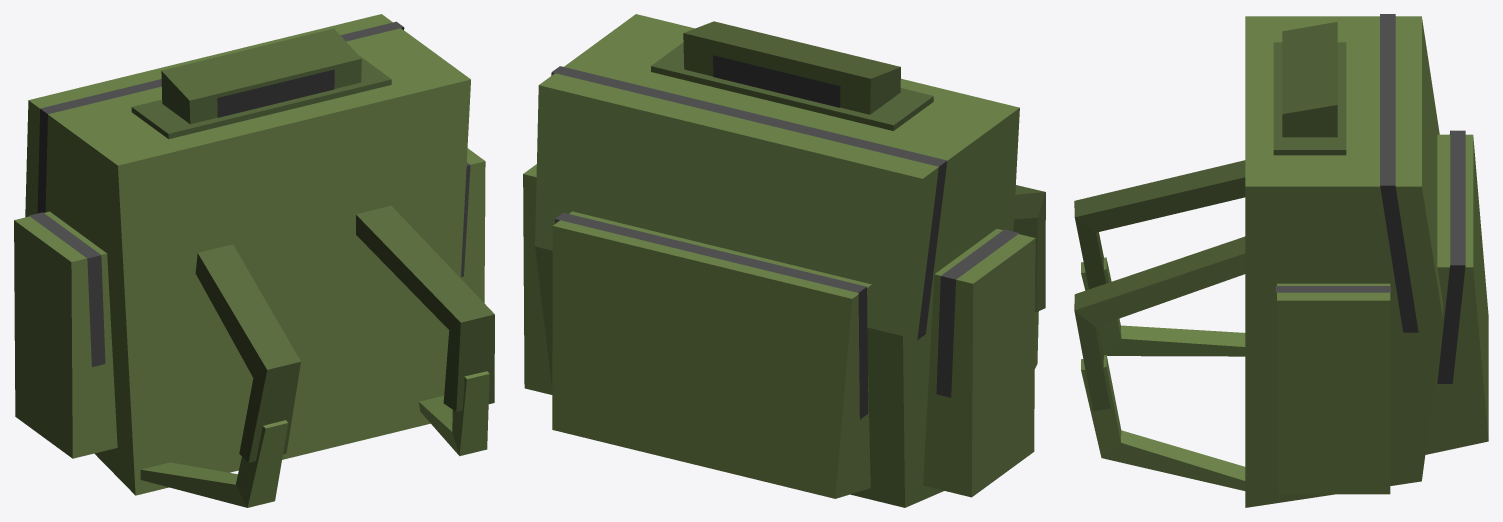
File: Item_Backpack004.FBX
The picture shows the model from 3 angles, left to right: view 1: azimuth 30°, elevation 25°; view 2: azimuth 150°, elevation 25°; view 3: azimuth 270°, elevation 25°; orthographic projection. The views are drawn at different scales.
Parts seen in each view (by area): view 1: Item_Backpack004; view 2: Item_Backpack004; view 3: Item_Backpack004.
Part boxes in pixels (x1=…): Item_Backpack004: x1=14, y1=14, x2=494, y2=507; Item_Backpack004: x1=523, y1=14, x2=1045, y2=507; Item_Backpack004: x1=1074, y1=14, x2=1488, y2=507.
Bounding box in the file's own units: 48.36 × 41.63 × 42.46.
